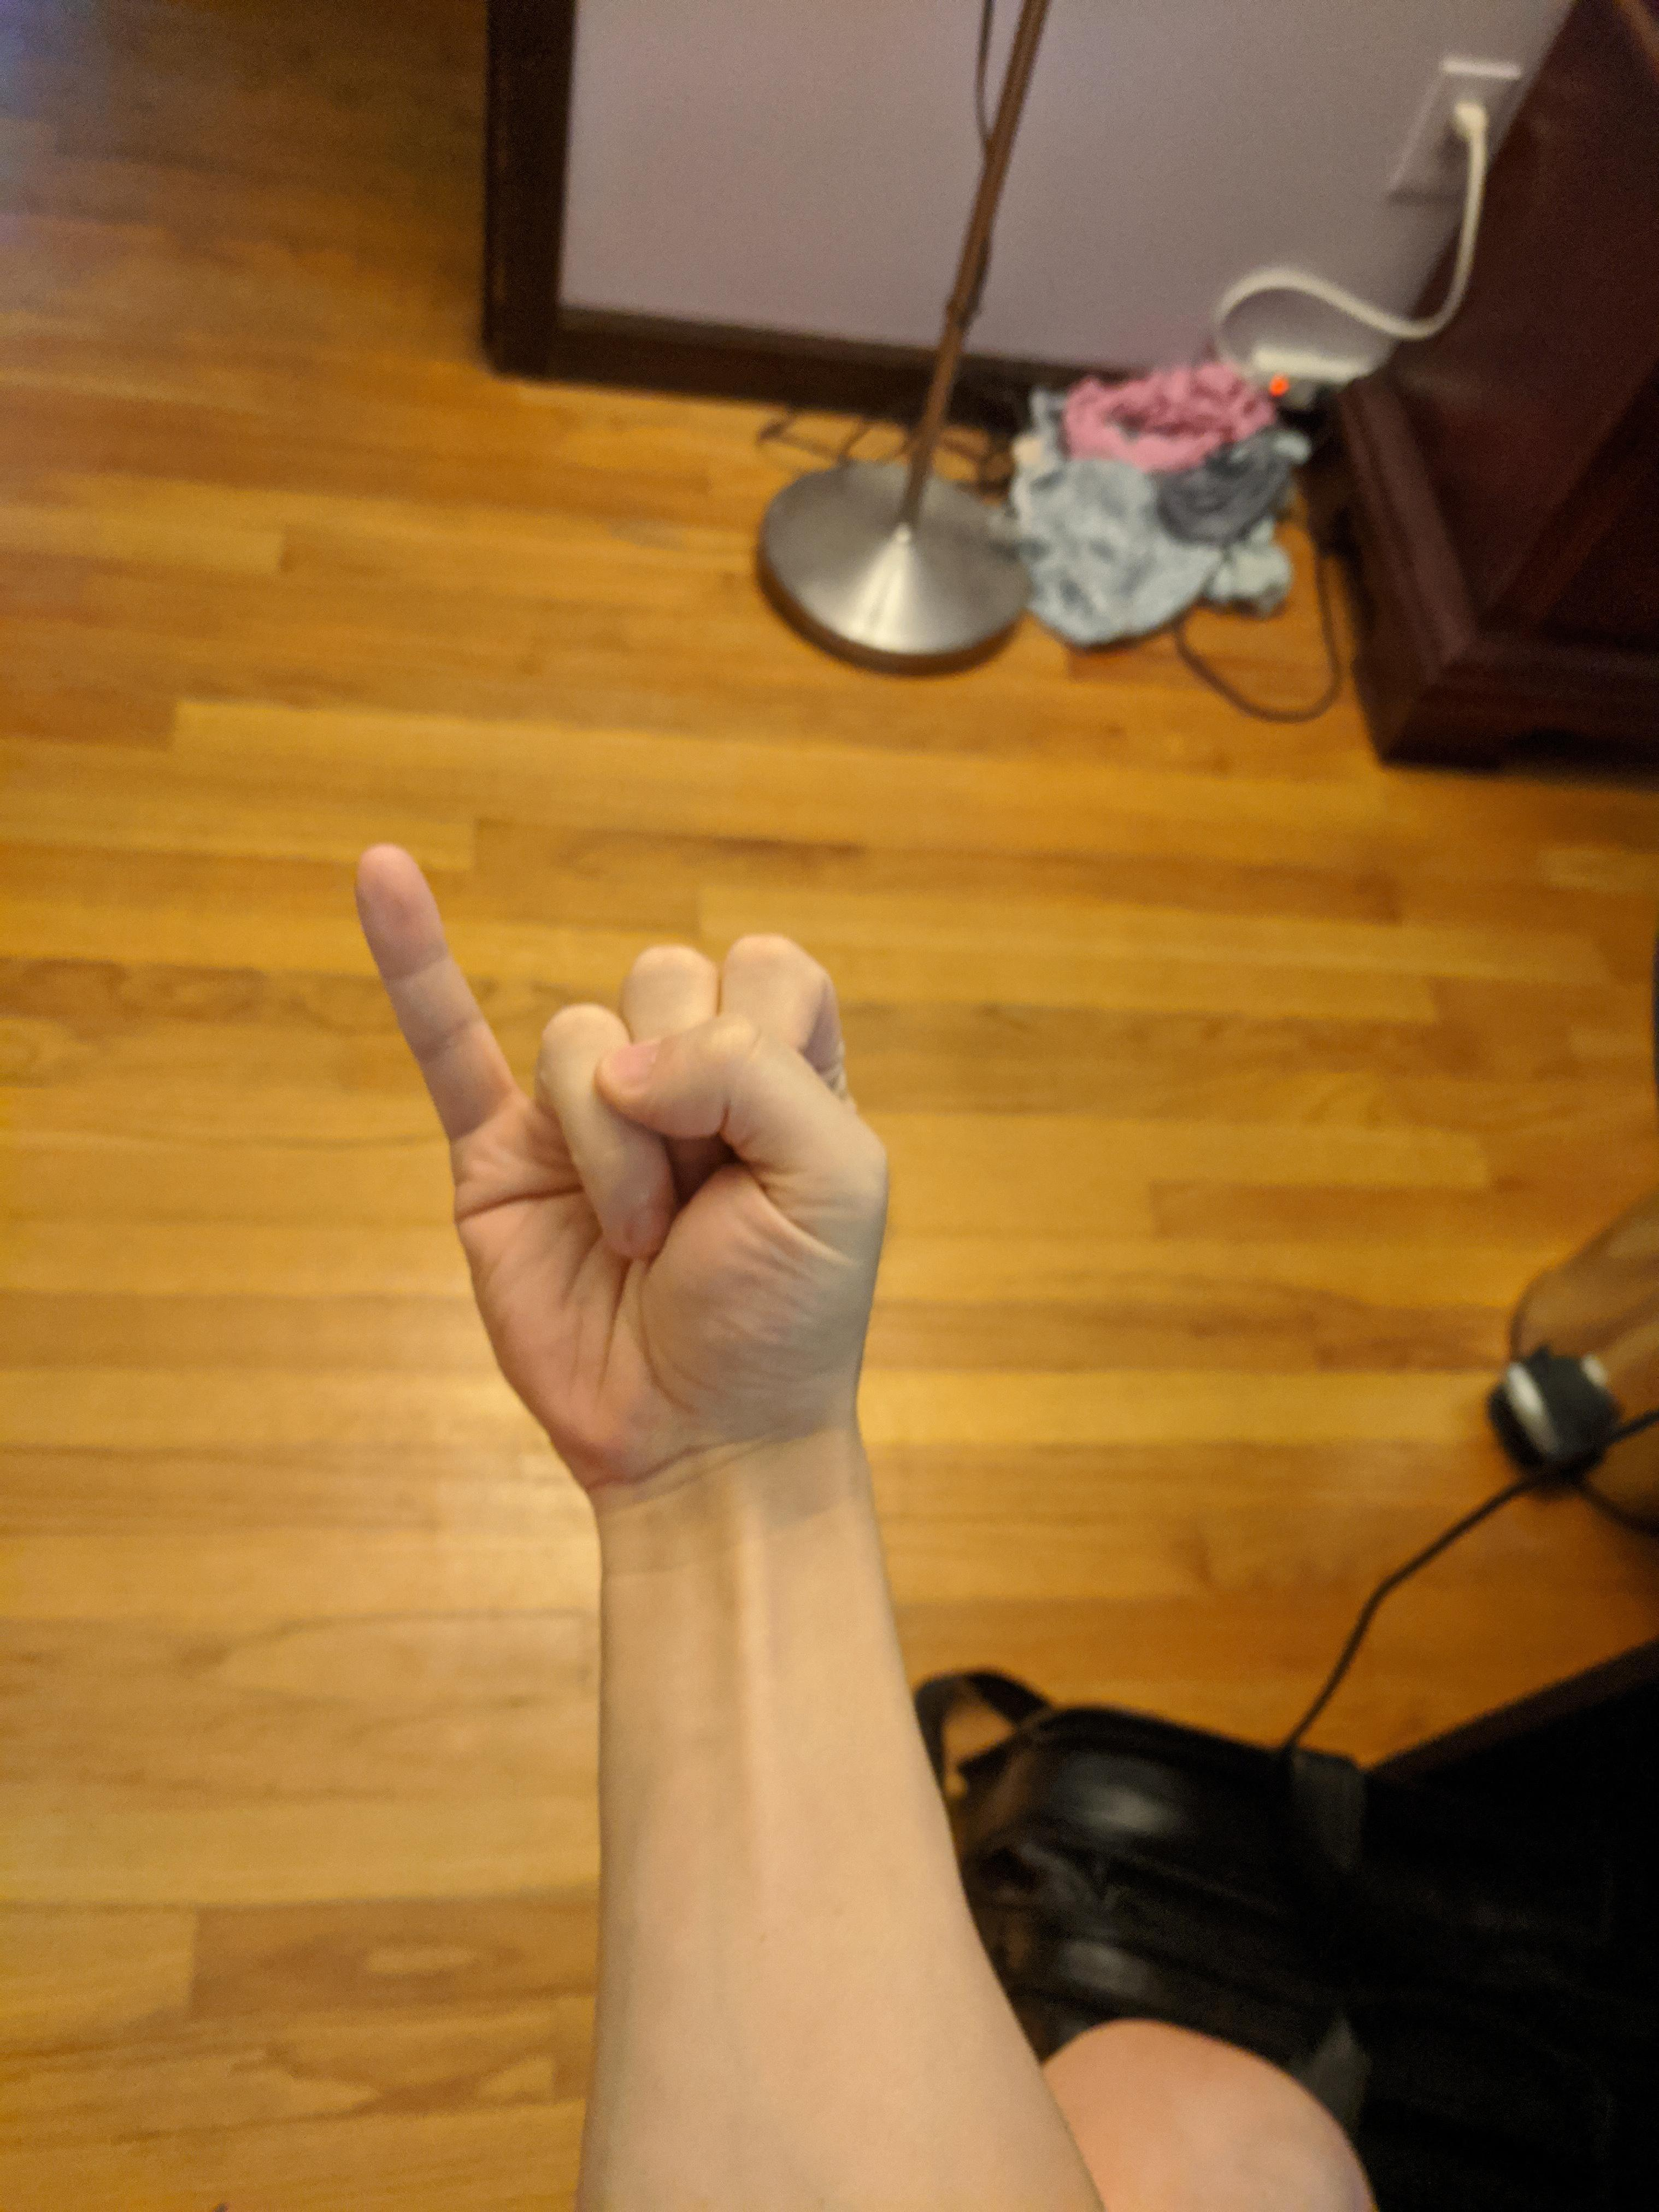I: (338, 831, 910, 1517)
